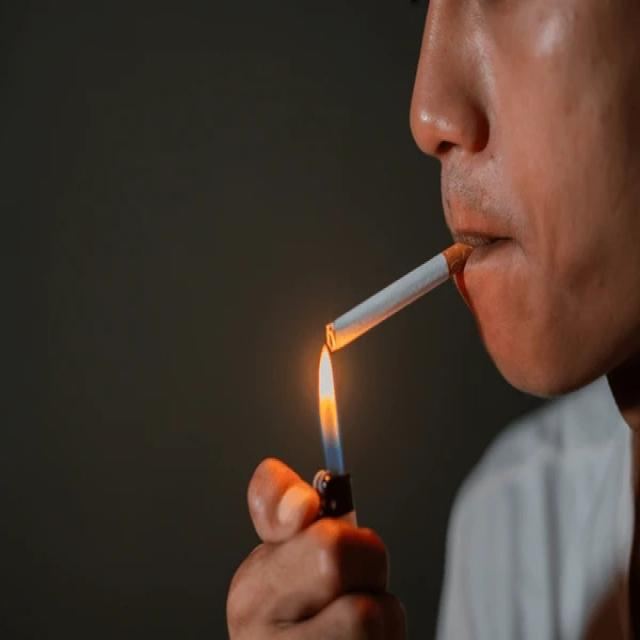fire: (319, 344, 343, 473)
